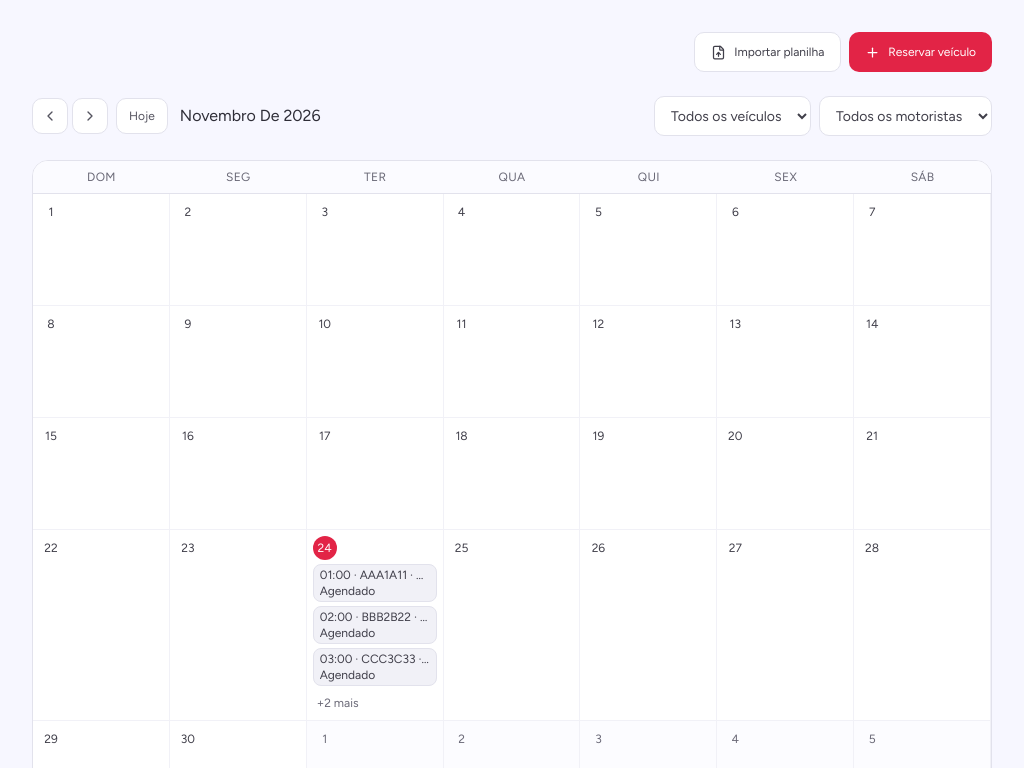
Test: Agenda: +N mais › abre a lista completa do dia, inclusive do quinto uso em diante
Click the button "+2 mais" at (338, 703), box [313, 695, 363, 711]
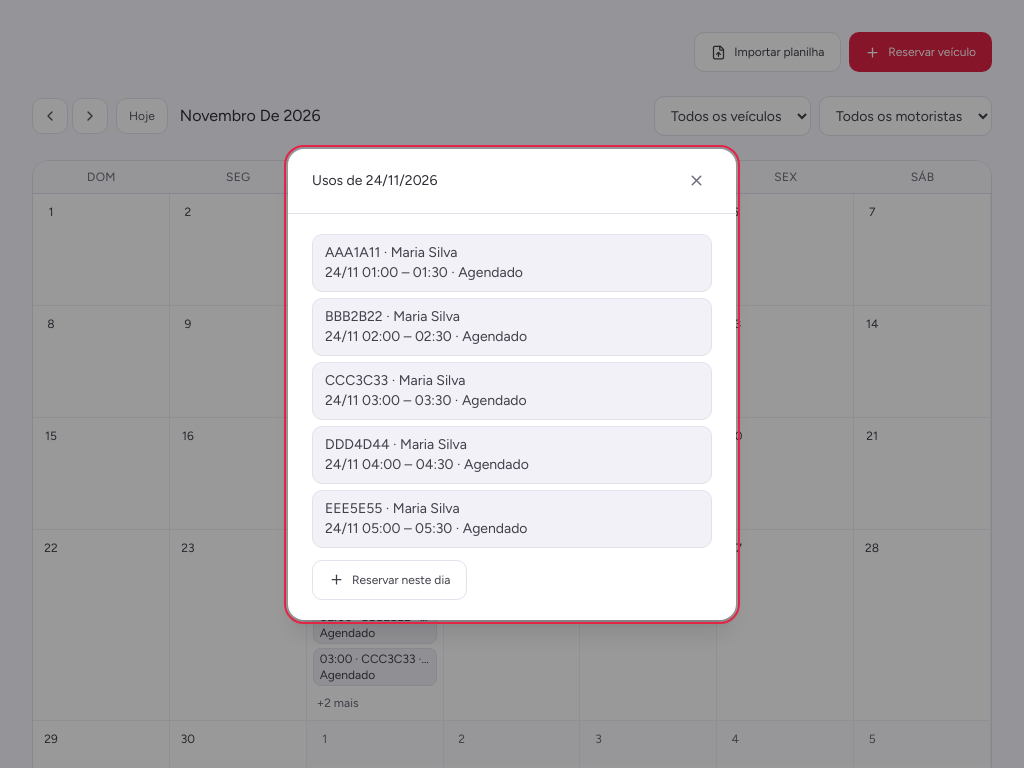
Note: O quinto, que antes ficava inalcançável, abre o detalhe.
Click the button "EEE5E55 · Maria Silva 24/11 05:00 – 05:30 · Agendado" at (512, 518), box [312, 490, 712, 548]
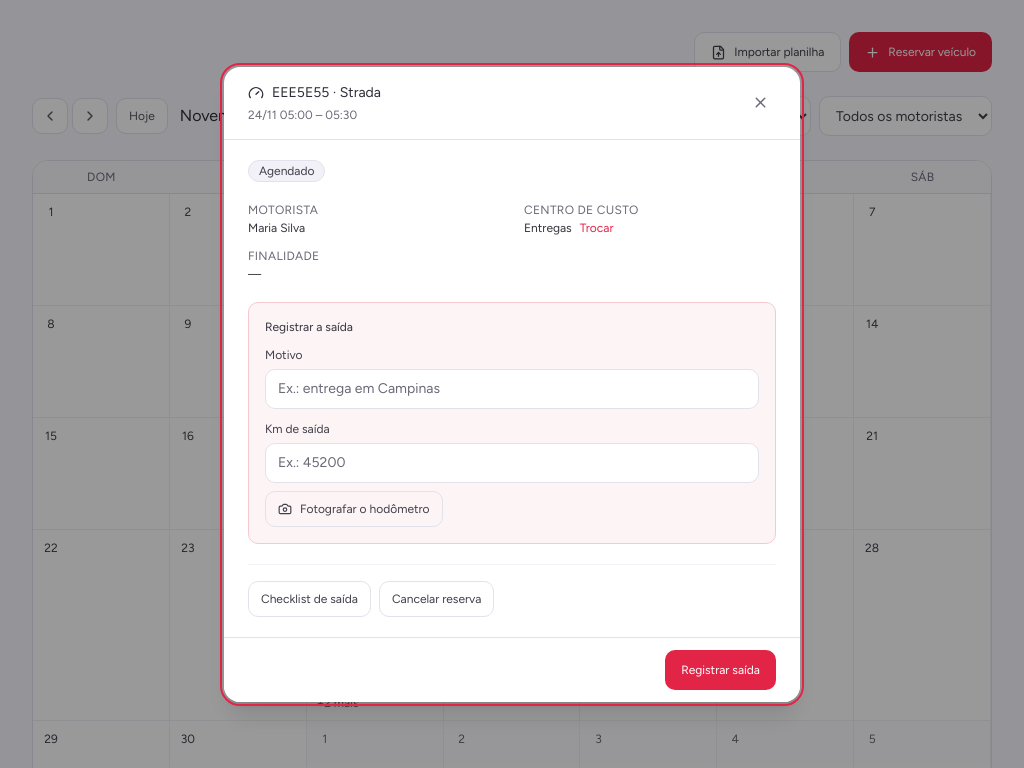
Result: the heading "EEE5E55 · Strada" is shown at [248, 82, 381, 102]
